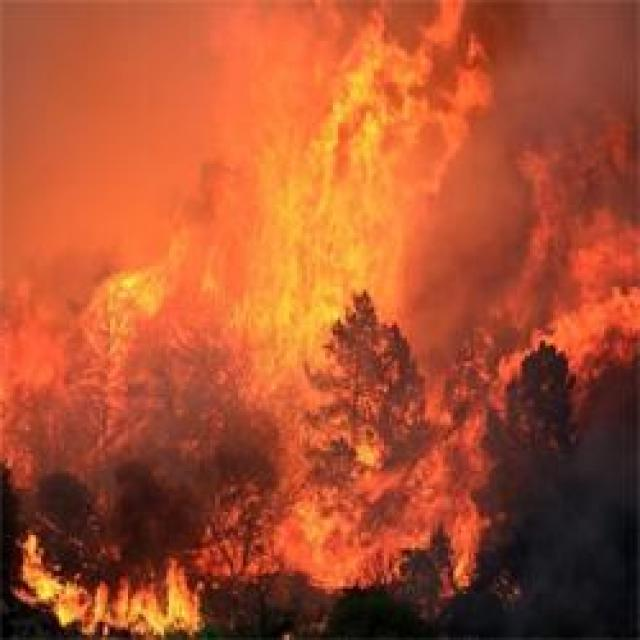fire: (258, 62, 430, 314), (286, 456, 474, 590), (548, 197, 640, 369), (18, 558, 202, 640)
smoke: (441, 7, 634, 149), (192, 0, 350, 99)
